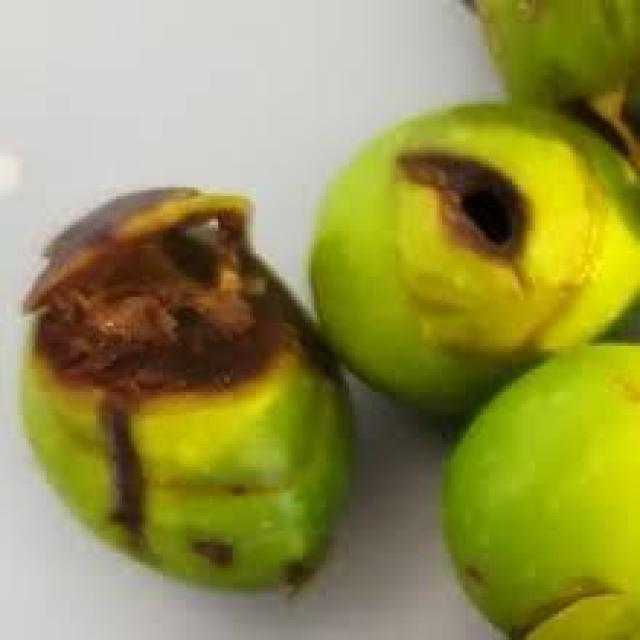Anthracnose: (20, 188, 349, 586), (311, 106, 637, 410)
